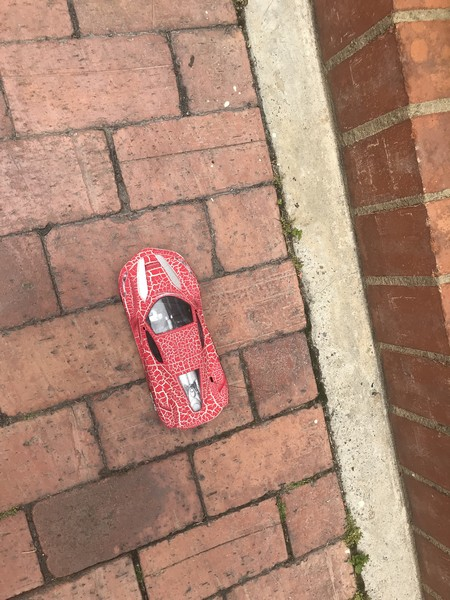RC: (117, 247, 231, 433)
